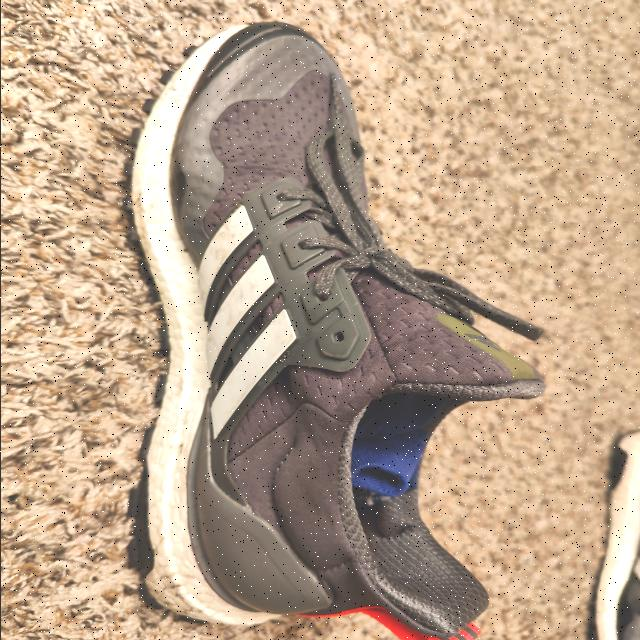black shoes: (209, 112, 357, 606)
